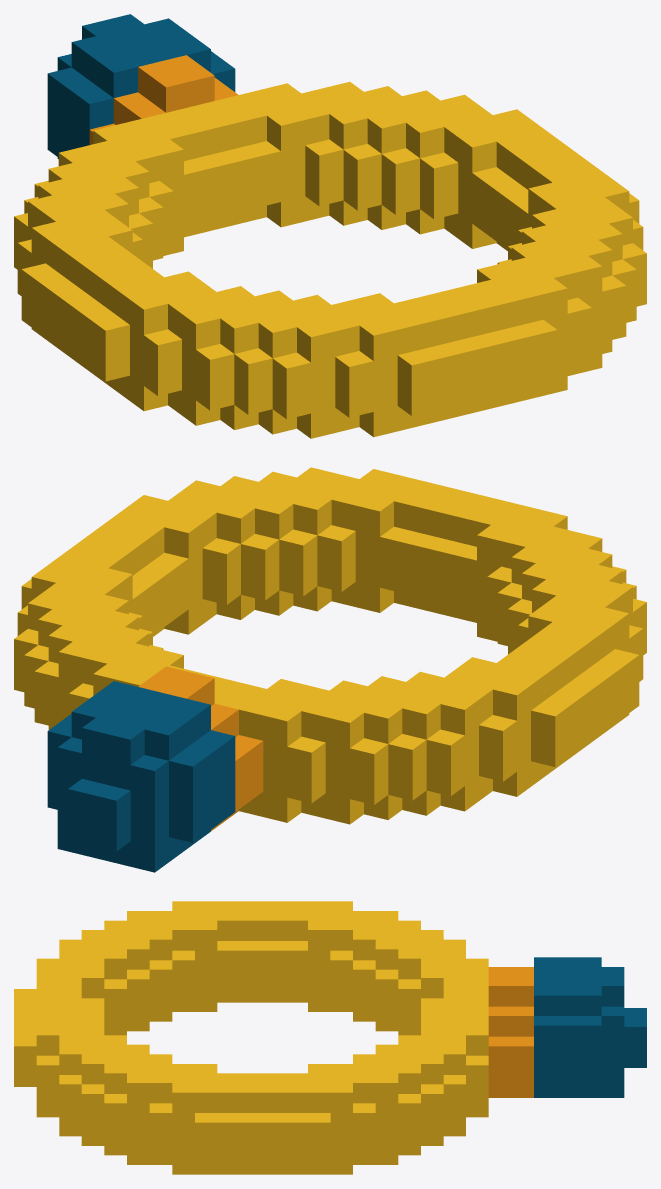
Rendered from item_RING_TOURMALINE.glb.
3 renders of one model, top to bottom at view 1: azimuth 30°, elevation 25°; view 2: azimuth 150°, elevation 25°; view 3: azimuth 270°, elevation 25°, orthographic. The views are drawn at different scales.
Visible parts, largest first — view 1: item_RING_TOURMALINE; view 2: item_RING_TOURMALINE; view 3: item_RING_TOURMALINE.
Part boxes in pixels (x1,y1,x2,y2): item_RING_TOURMALINE: (14, 14, 646, 438); item_RING_TOURMALINE: (14, 467, 646, 872); item_RING_TOURMALINE: (14, 901, 646, 1174).
Size of the model in its own units: 0.25 by 0.0568 by 0.3182.
Materials: 1 (1 with a texture image).
